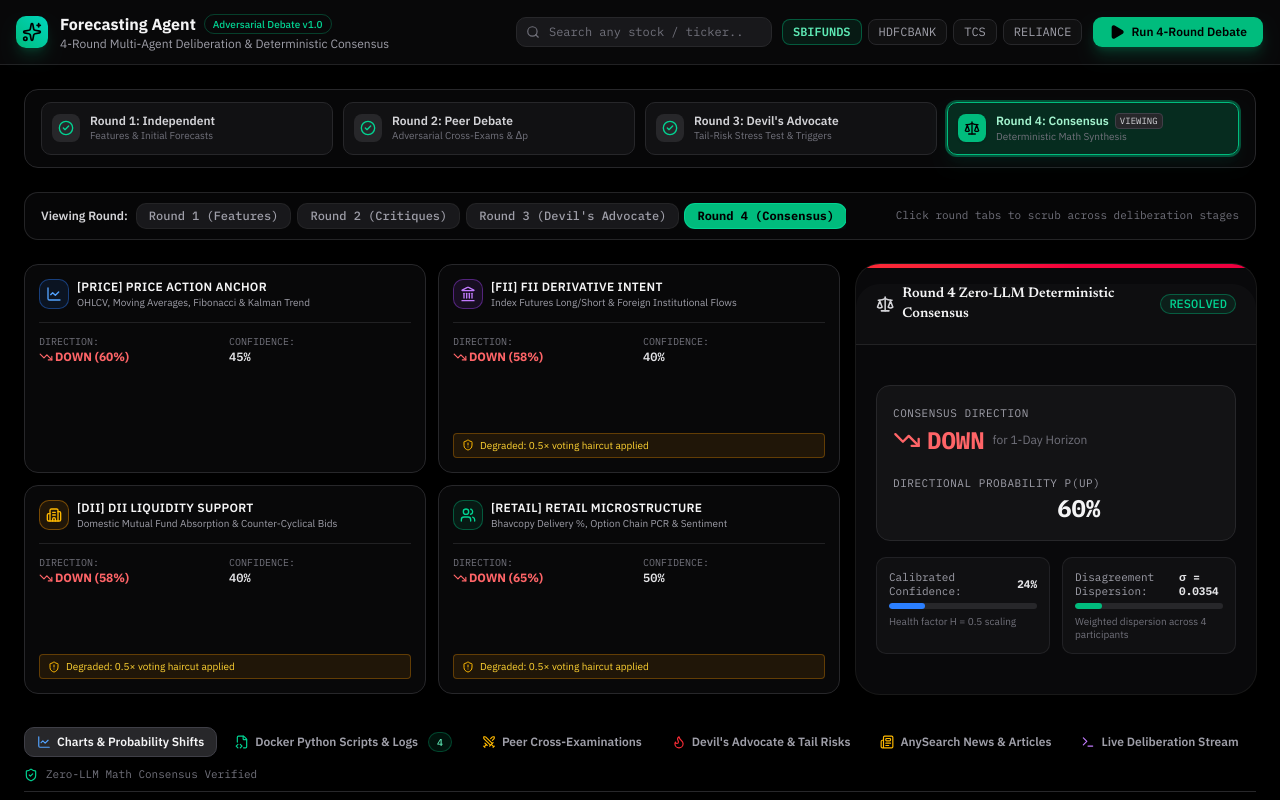
Scenario: debate viewer page › renders 4 participant agents, consensus hero, and transparency tabs
Check: the heading "Forecasting Agent Adversarial Debate v1.0" is shown, box top-left (60, 14), bottom-right (332, 34)
Check: the text "4-Round Multi-Agent Deliberation & Deterministic Consensus" is shown, box top-left (60, 36), bottom-right (389, 52)
Note: Switch to Python Scripts Explorer Tab
Click the text "Docker Python Scripts & Logs" at (336, 742), box top-left (255, 734), bottom-right (418, 750)
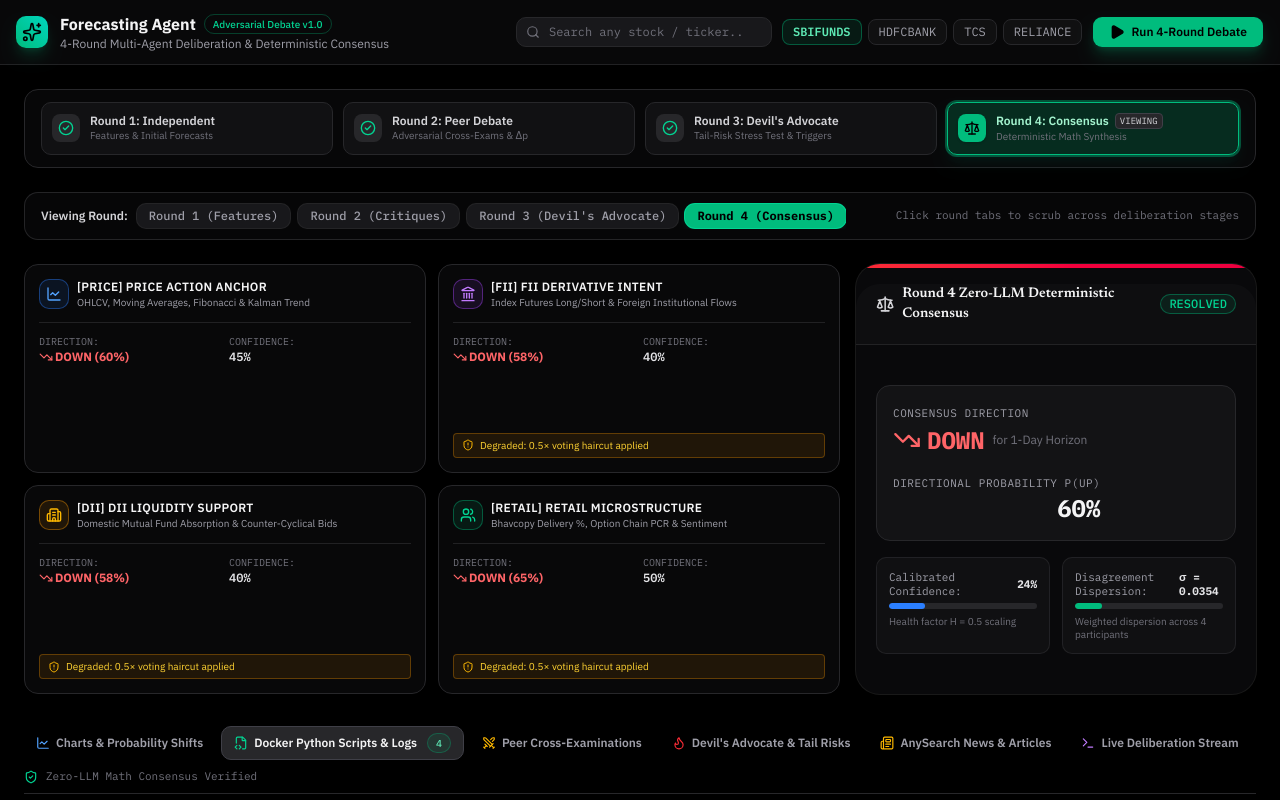
Note: Switch to Peer Cross-Examinations Tab
Click the button "Peer Cross-Examinations" at (562, 744), box top-left (470, 730), bottom-right (654, 758)
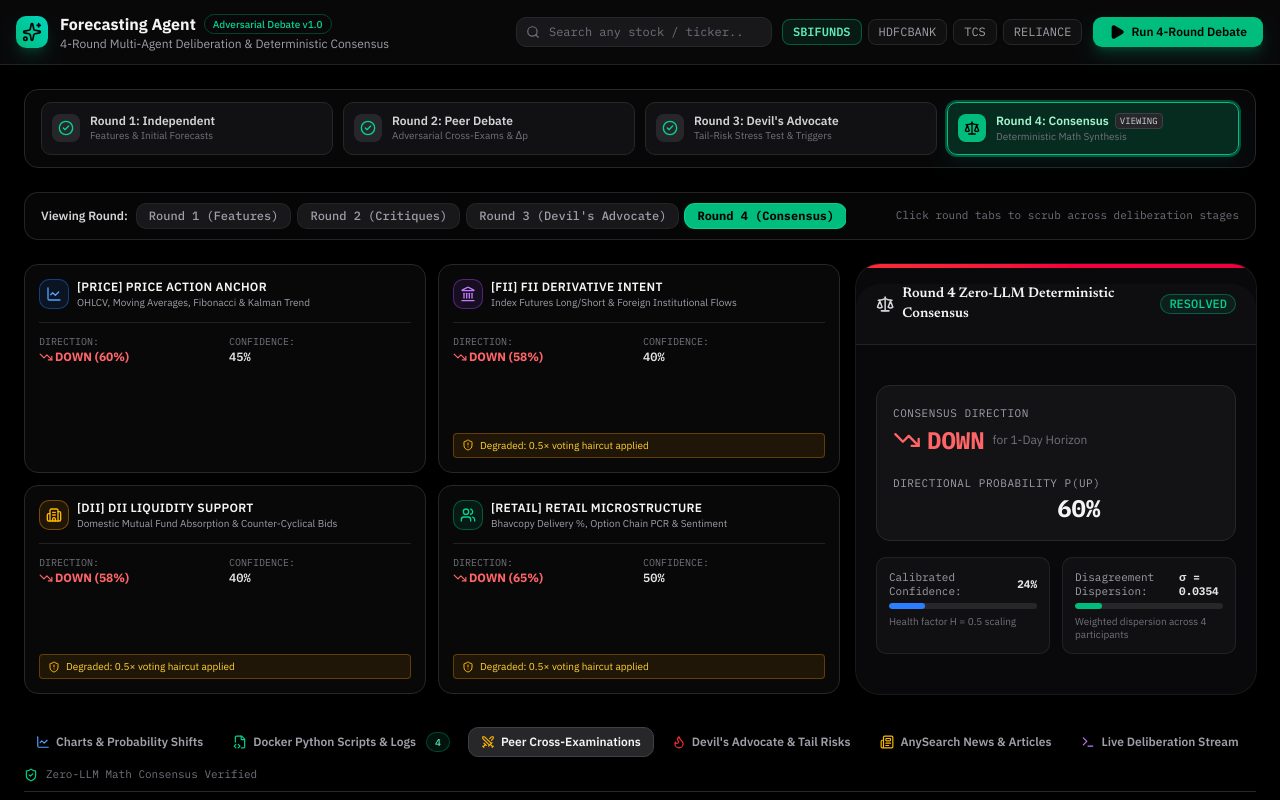
Note: Switch to Devil's Advocate Tab
Click the button "Devil's Advocate & Tail Risks" at (761, 742), box top-left (660, 728), bottom-right (862, 756)
(page scrolled)
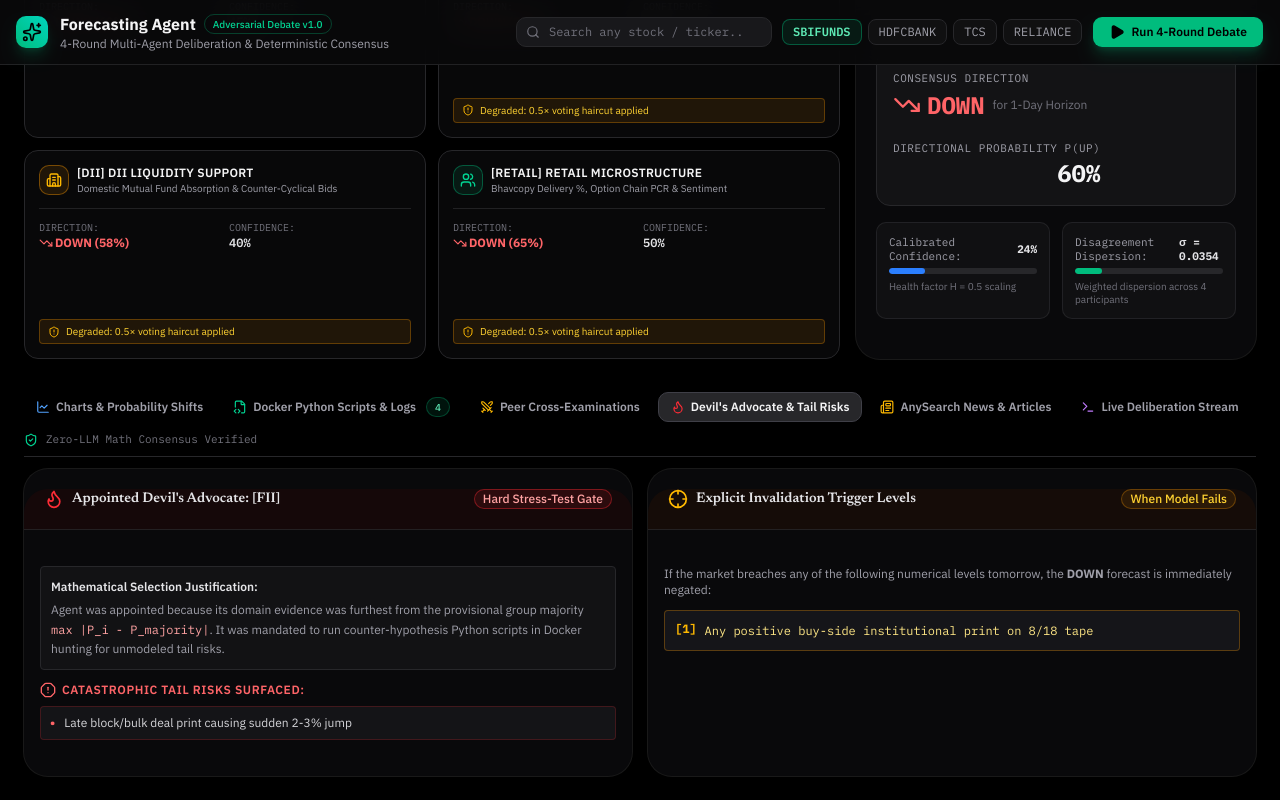
Check: the text "Appointed Devil's Advocate: [FII]" is shown, box top-left (72, 489), bottom-right (280, 509)
Check: the text "Explicit Invalidation Trigger Levels" is shown, box top-left (696, 489), bottom-right (916, 509)
